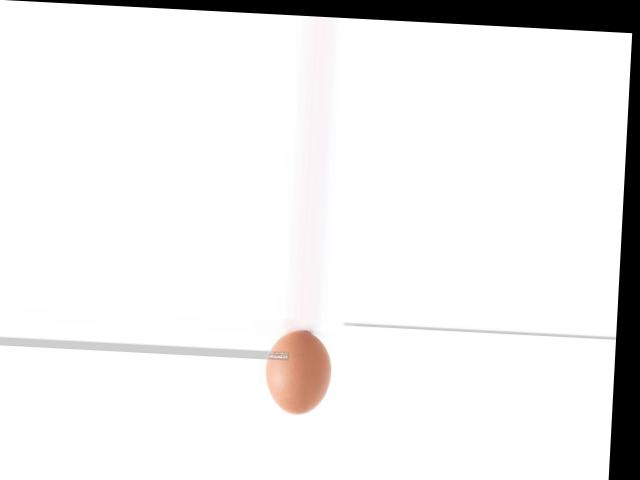egg: (263, 330, 332, 415)
